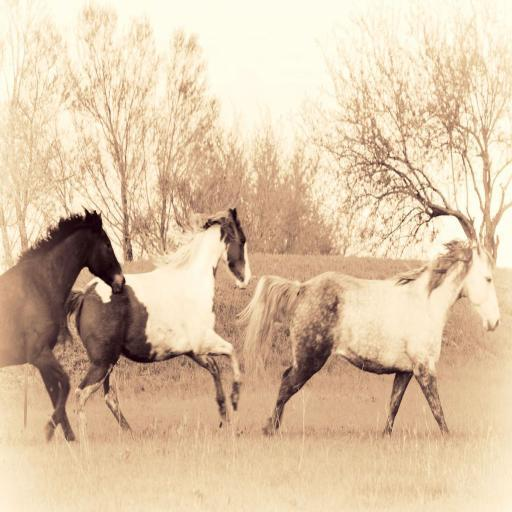horse: (237, 238, 501, 441), (64, 200, 254, 438), (0, 205, 127, 445)
